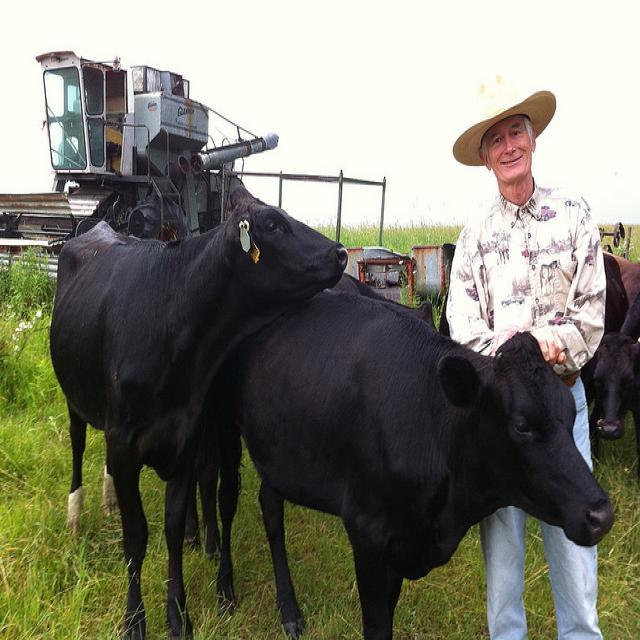cow: (214, 285, 613, 632), (47, 190, 346, 629), (591, 248, 639, 439), (612, 252, 639, 301)
